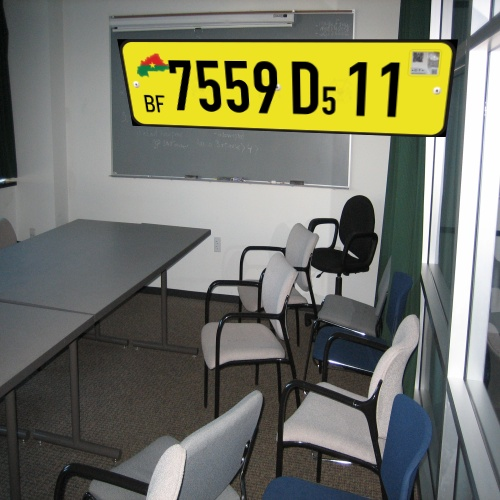plate: (109, 27, 460, 146)
